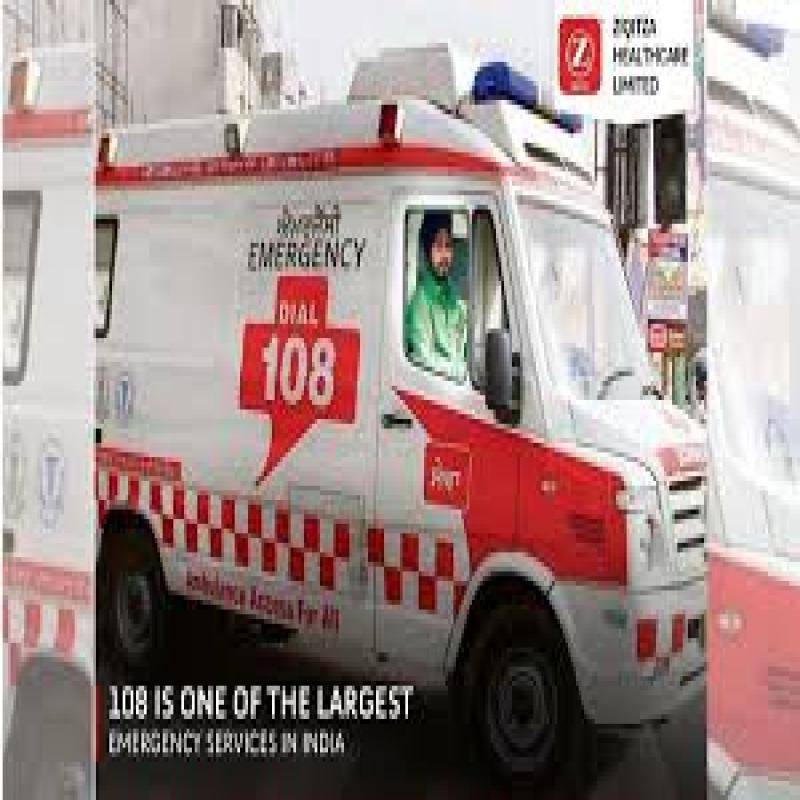AmbulanceSiren: (483, 36, 588, 168)
ambulance: (100, 74, 701, 780)
